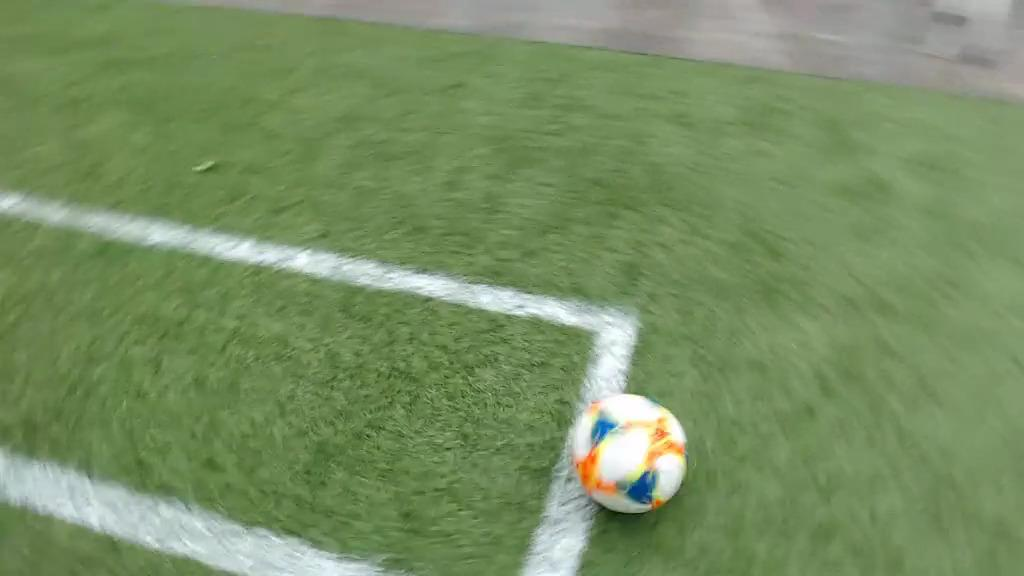ball: (578, 393, 685, 512)
